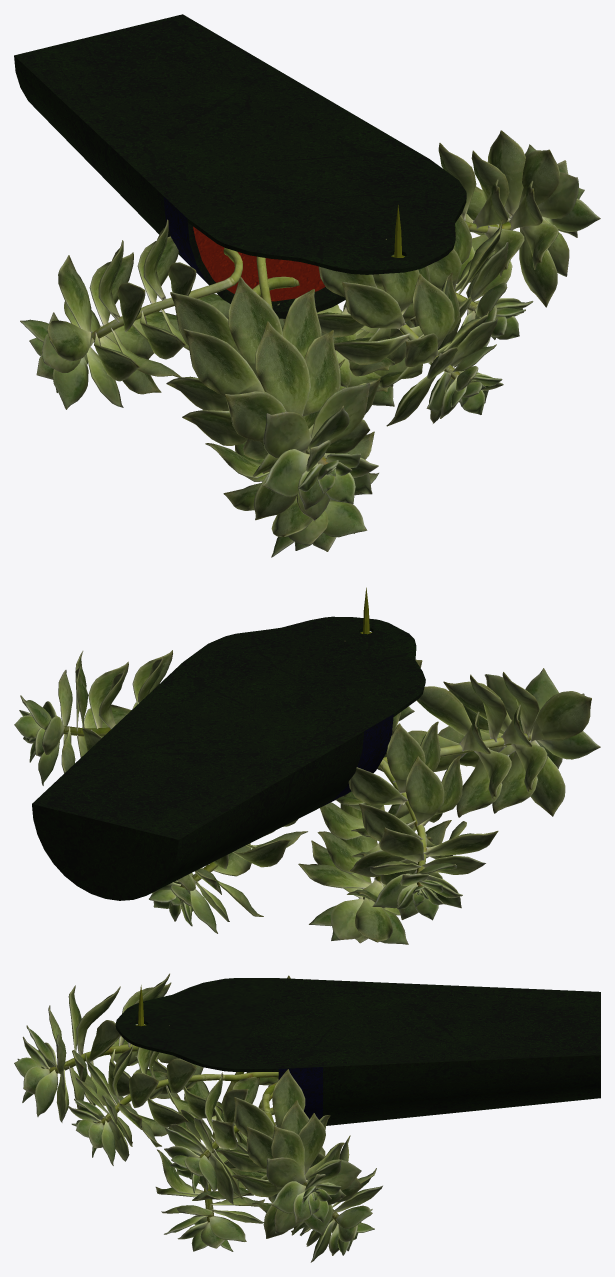
The model's file is wall-flowers-opt.glb.
The picture shows the model from 3 angles, top to bottom: view 1: azimuth 30°, elevation 25°; view 2: azimuth 150°, elevation 25°; view 3: azimuth 270°, elevation 25°; orthographic projection. The views are drawn at different scales.
Visible parts, largest first — view 1: DRose_001, WallVase; view 2: WallVase, DRose_001; view 3: WallVase, DRose_001.
Boxes of the visible parts, x1=… form: DRose_001: x1=20, y1=130, x2=600, y2=557; WallVase: x1=14, y1=14, x2=466, y2=318; WallVase: x1=32, y1=587, x2=425, y2=900; DRose_001: x1=14, y1=641, x2=600, y2=944; WallVase: x1=115, y1=978, x2=600, y2=1125; DRose_001: x1=14, y1=973, x2=382, y2=1262.
Size of the model in its own units: 0.1982 by 0.1269 by 0.2421.
Materials: 2 (2 with a texture image).
